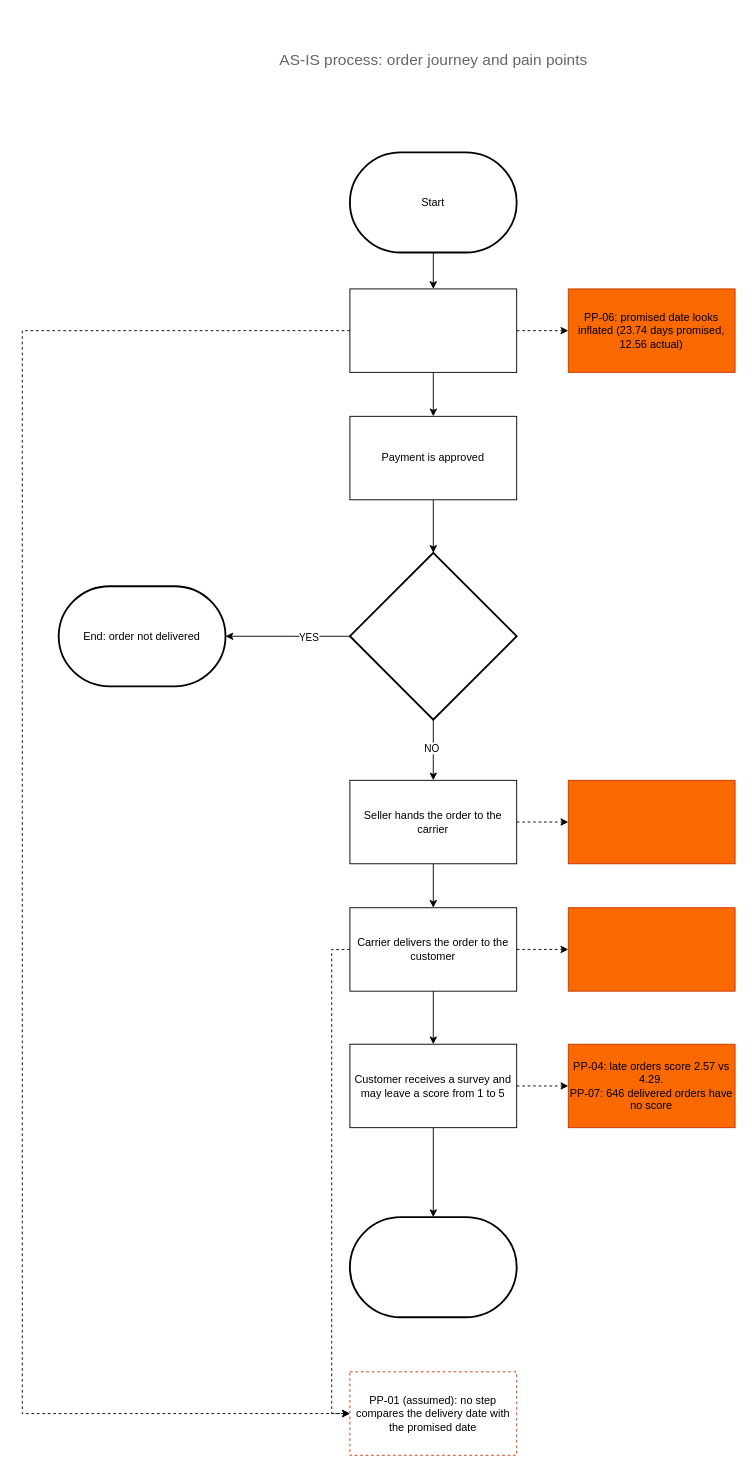
Image size: 752x1471. Some labels were removed from this diagram. Here are the shapes that lost their labels. From the top down, the centre of each, then its label:
At point (433, 330): "Customer places the order and gets a promised delivery date".
At point (433, 635): "Canceled or unavailable?".
At point (651, 821): "PP-05: some timestamps are out of order (1,359 orders)".
At point (651, 949): "PP-02: 8.1% arrive late. PP-03: peaks in Nov 2017, Feb and Mar 2018".
At point (433, 1267): "End: order complete".
